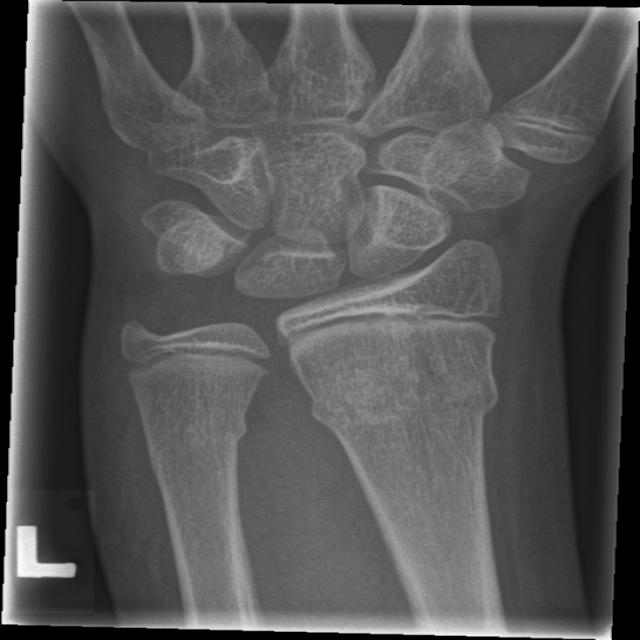radius fracture: (285, 352, 530, 473)
ulna fracture: (127, 390, 270, 481)
